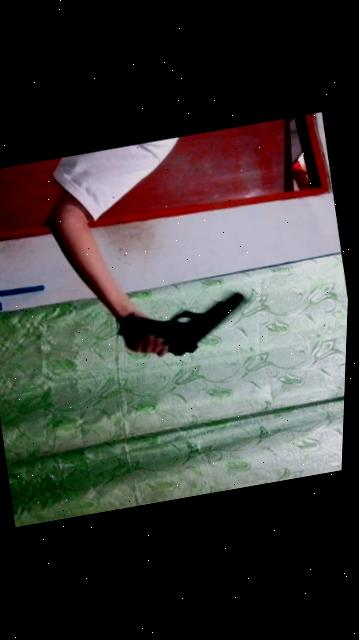pistol: (94, 278, 266, 394)
